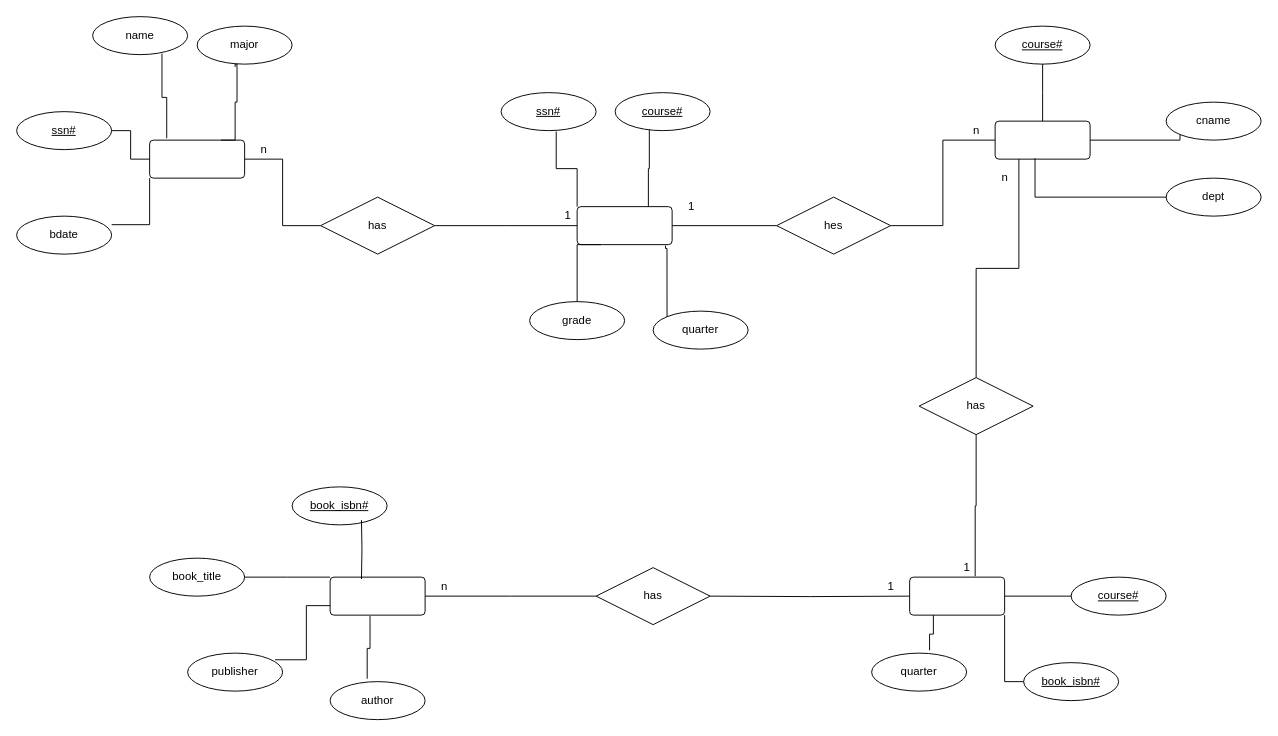
This 1278x736 diagram has some shape labels left out. Here are the shapes that lost their labels. From the top down, the centre of each, then its label:
the point at 197,158: student
the point at 1042,139: course
the point at 624,225: enroll
the point at 377,595: book
the point at 957,595: book_adoption
